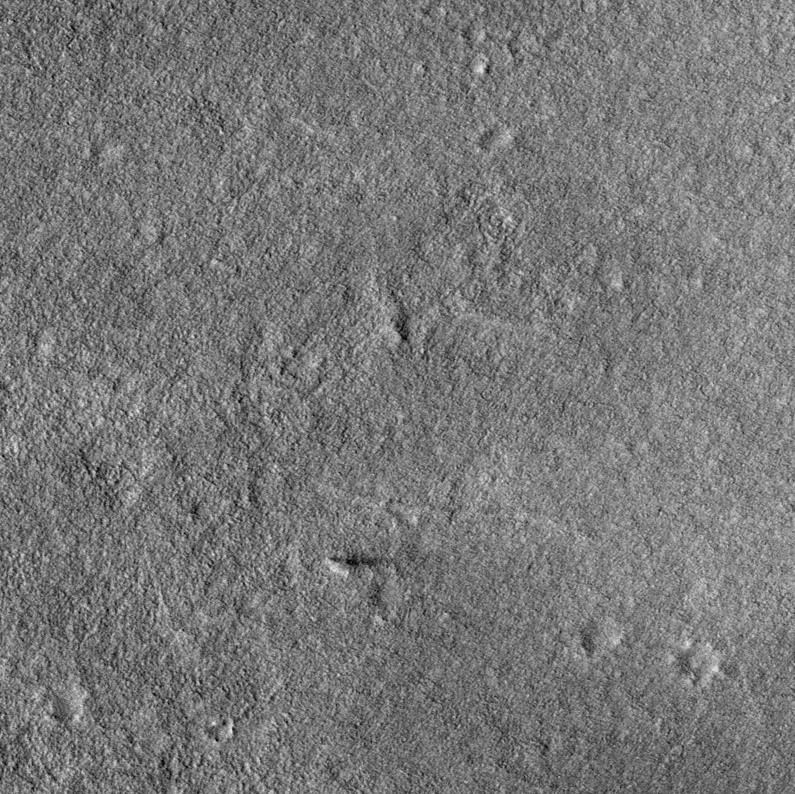dust_devil: (321, 555, 380, 581)
